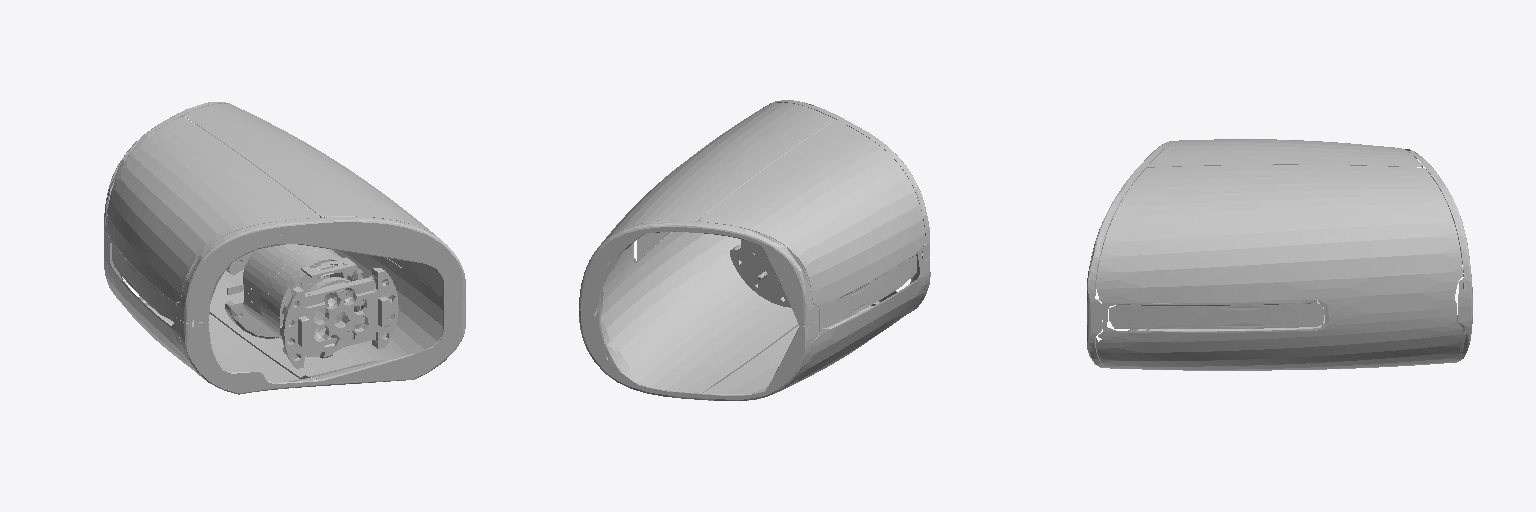
File: sim_ecub_1-1_l_hip_3.obj
The picture shows the model from 3 angles: view 1: azimuth 30°, elevation 25°; view 2: azimuth 150°, elevation 25°; view 3: azimuth 270°, elevation 25°; orthographic projection.
Bounding box in the file's own units: 187 × 138 × 266.